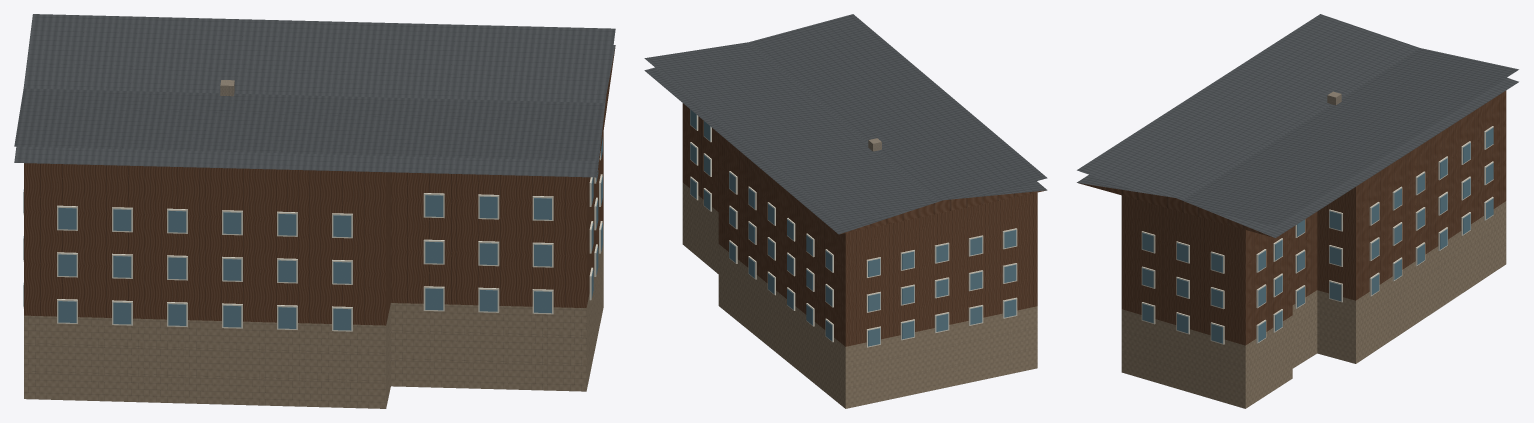
File: core_0034.gltf
3 renders of one model, left to right at view 1: azimuth 30°, elevation 25°; view 2: azimuth 150°, elevation 25°; view 3: azimuth 270°, elevation 25°, orthographic. The views are drawn at different scales.
Visible parts, largest first — view 1: core_0034; view 2: core_0034; view 3: core_0034.
Boxes of the visible parts, x1,y1,x2,y2 form: core_0034: [14, 14, 615, 408]; core_0034: [644, 14, 1047, 408]; core_0034: [1077, 14, 1518, 408].
Size of the model in its own units: 36.57 by 15.85 by 32.33.
Materials: 6 (6 with a texture image).
